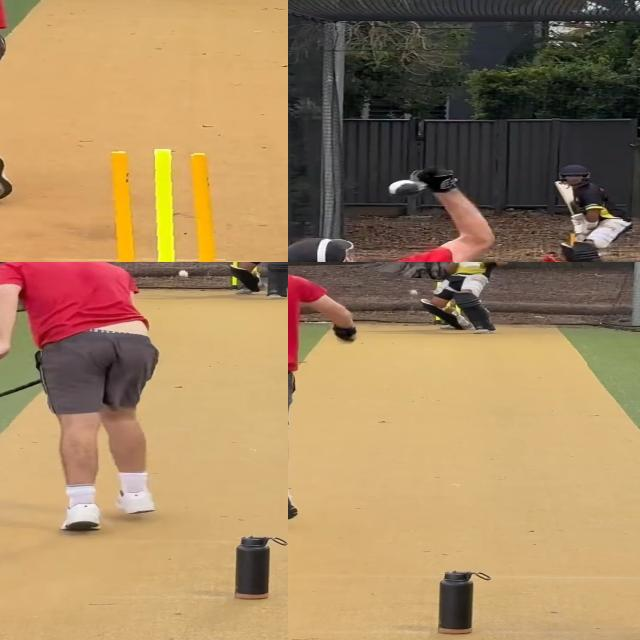Cricket ball: (176, 270, 193, 280), (407, 289, 421, 295)
Stumps: (92, 149, 226, 262)
